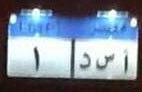1: (33, 44, 43, 75)
alif: (121, 48, 131, 75)
daal: (79, 49, 93, 72)
seen: (95, 53, 116, 71)
